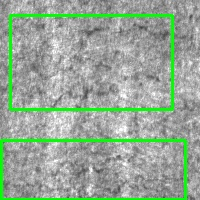crazing: (10, 15, 172, 109), (1, 140, 185, 199)
